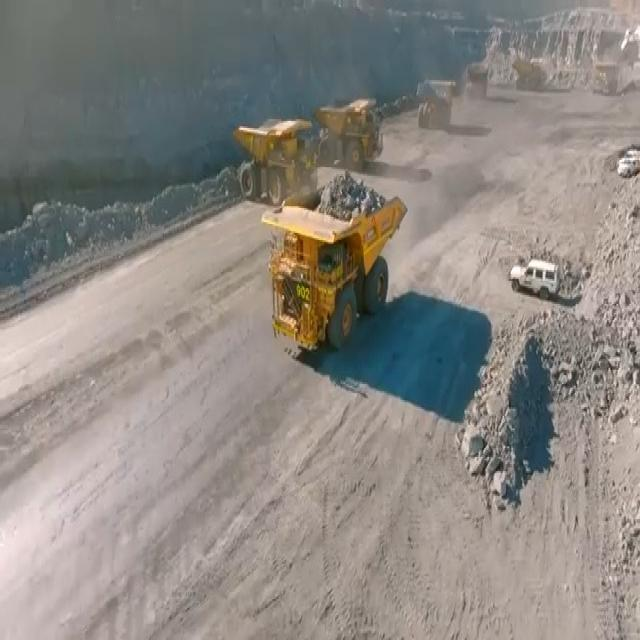dump_truck: (271, 181, 407, 347), (234, 112, 304, 193), (320, 102, 381, 166), (414, 76, 451, 138)
light_vehicle: (506, 250, 560, 302)
